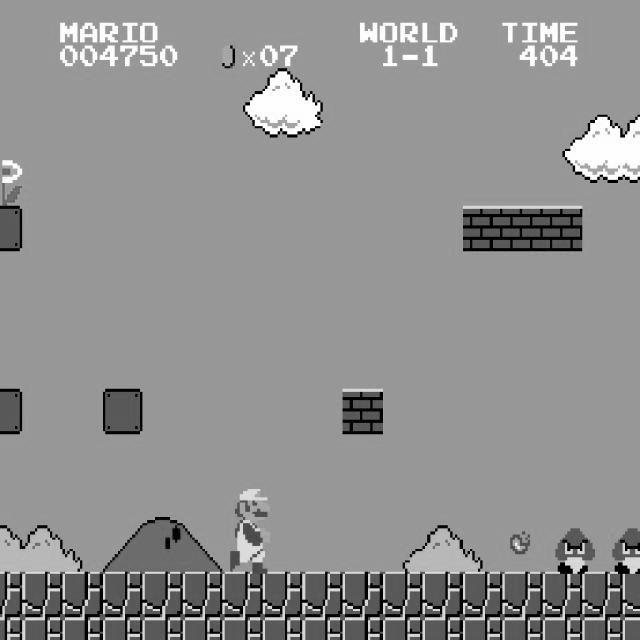1- brick_block: (342, 388, 383, 434), (462, 206, 503, 251), (502, 206, 543, 251), (542, 206, 583, 251)
17- undestructible_block: (22, 572, 63, 618), (62, 572, 103, 618), (102, 572, 143, 618), (142, 572, 183, 618), (182, 572, 223, 618), (222, 572, 263, 618), (262, 572, 303, 618), (302, 572, 343, 618), (342, 572, 383, 618), (382, 572, 423, 618), (422, 572, 463, 618), (462, 572, 503, 618), (502, 572, 543, 618), (542, 572, 583, 618), (582, 572, 623, 618), (0, 572, 22, 618), (22, 617, 63, 640), (62, 617, 103, 640), (102, 617, 143, 640), (142, 617, 183, 640), (182, 617, 223, 640), (222, 617, 263, 640), (262, 617, 303, 640), (302, 617, 343, 640), (342, 617, 383, 640), (382, 617, 423, 640), (422, 617, 463, 640), (462, 617, 503, 640), (502, 617, 543, 640), (542, 617, 583, 640), (582, 617, 623, 640), (622, 571, 640, 617), (0, 617, 22, 640), (622, 617, 640, 639)
3- empty_block: (102, 388, 143, 434), (0, 388, 22, 434), (0, 206, 22, 251)
4- fire_mario: (228, 480, 270, 574)
5- fireball: (510, 528, 530, 554)
6- flower: (0, 157, 22, 206)
8- goomba: (552, 526, 596, 574), (610, 526, 640, 574)
